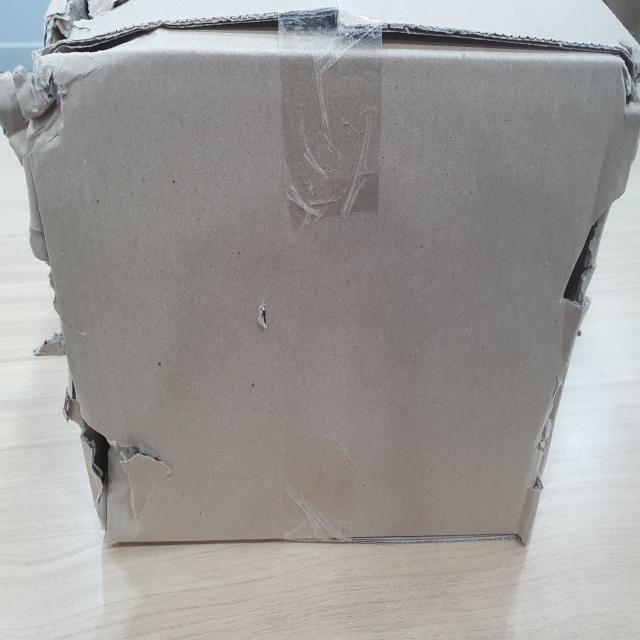hole: (8, 0, 98, 146), (79, 412, 173, 532), (557, 189, 611, 312)
